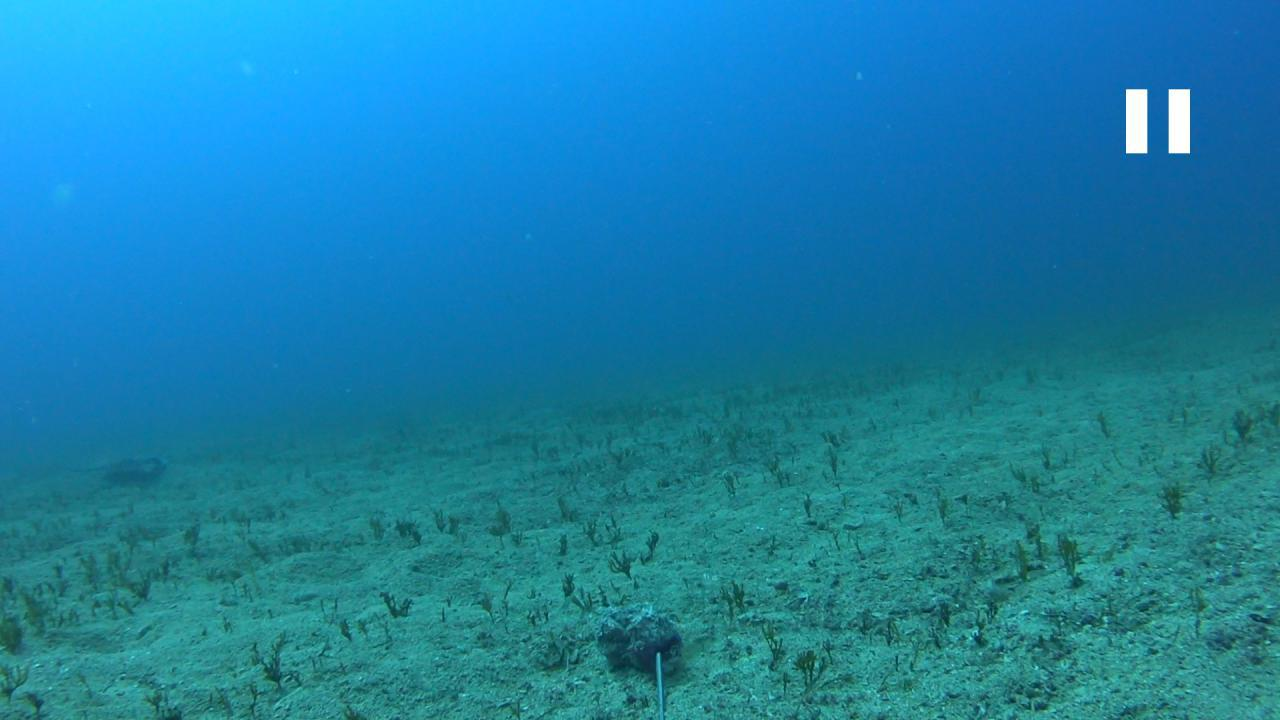dasyatis: (62, 456, 172, 480)
